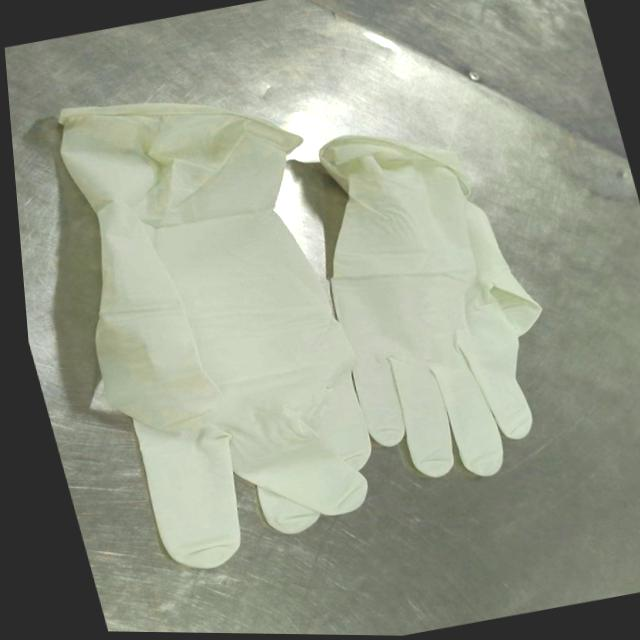General: (5, 2, 638, 636)
Infectious: (53, 101, 373, 569), (319, 133, 543, 478)
Sharps: (468, 69, 482, 82)
